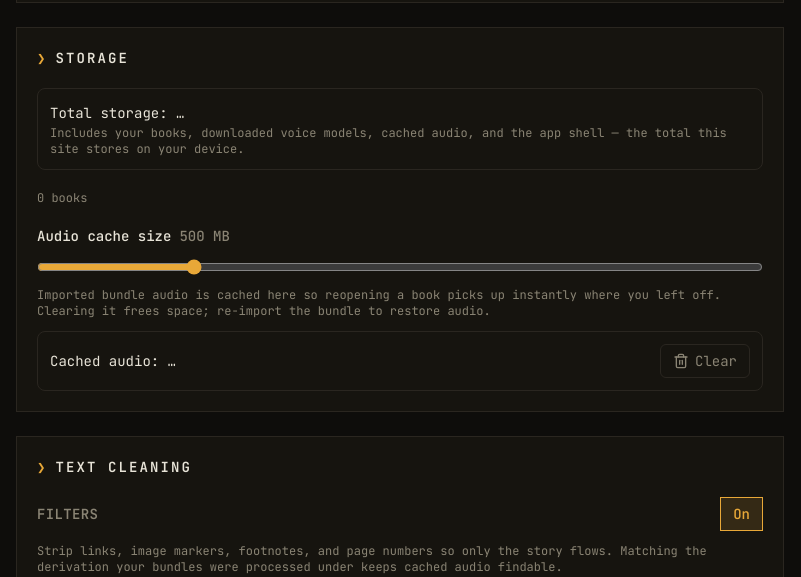
Test: Settings — audio cache › clears the audio cache when the Clear button is clicked
This screenshot has width=801, height=577.
(page scrolled)
Click the button "Clear": (705, 361) [660,344,750,378]
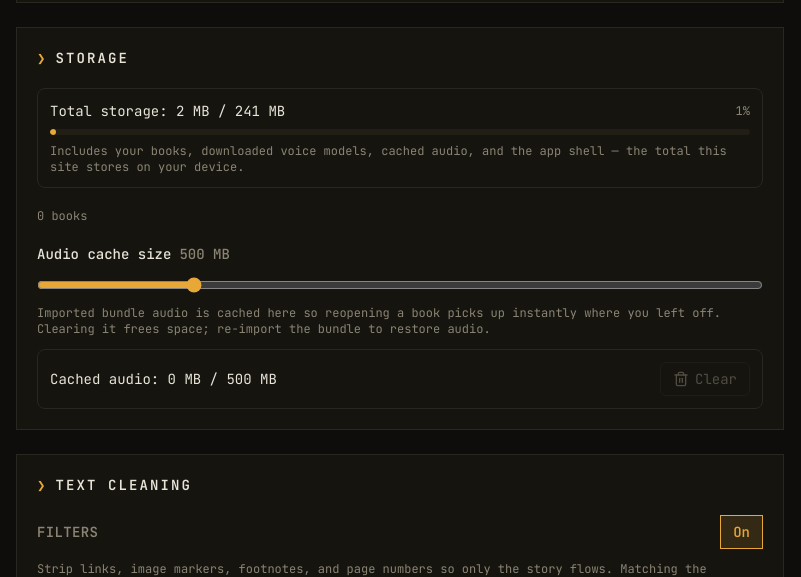
Expected: the text "Cached audio: 0 MB / 500 MB" is shown, [50,369,277,389]
